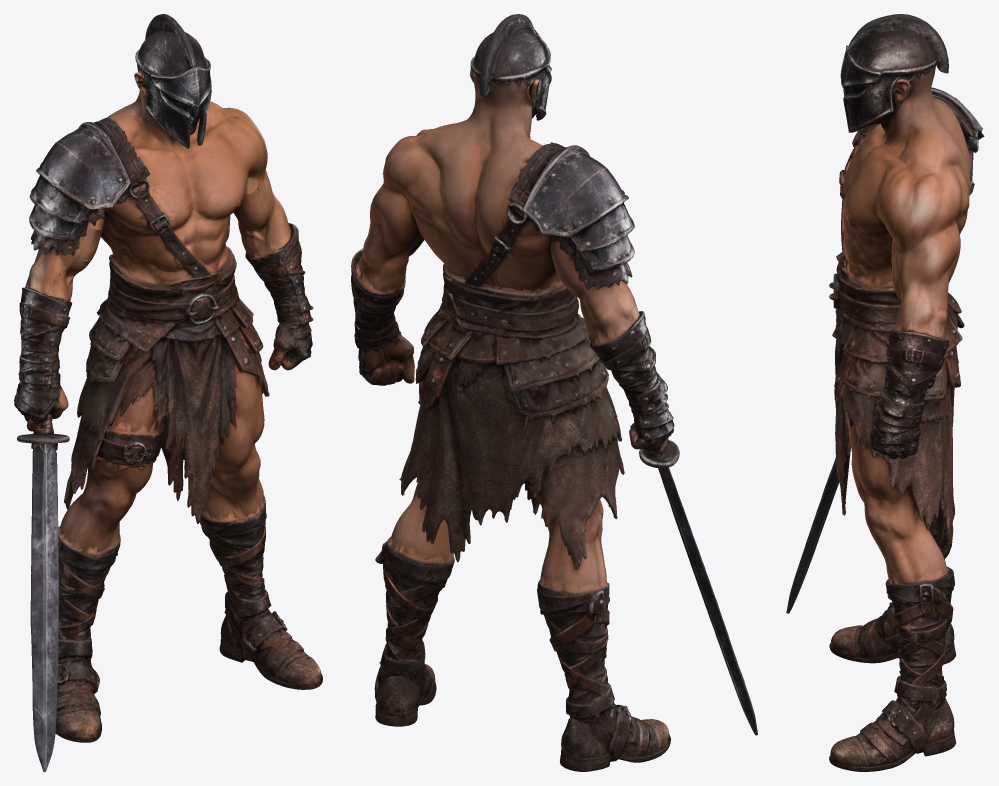
File: warrior.glb
3 renders of one model, left to right at view 1: azimuth 30°, elevation 25°; view 2: azimuth 150°, elevation 25°; view 3: azimuth 270°, elevation 25°, orthographic. The views are drawn at different scales.
Parts seen in each view (by area): view 1: tripo_node_454e6859-6b01-4420-8bba-280c1ddef726; view 2: tripo_node_454e6859-6b01-4420-8bba-280c1ddef726; view 3: tripo_node_454e6859-6b01-4420-8bba-280c1ddef726.
Part boxes in pixels (x1,y1,x2,y2): tripo_node_454e6859-6b01-4420-8bba-280c1ddef726: [14, 14, 322, 771]; tripo_node_454e6859-6b01-4420-8bba-280c1ddef726: [351, 14, 757, 771]; tripo_node_454e6859-6b01-4420-8bba-280c1ddef726: [786, 14, 984, 771].
Size of the model in its own units: 0.4907 by 0.9809 by 0.2537.
1 material, 1 textured.
